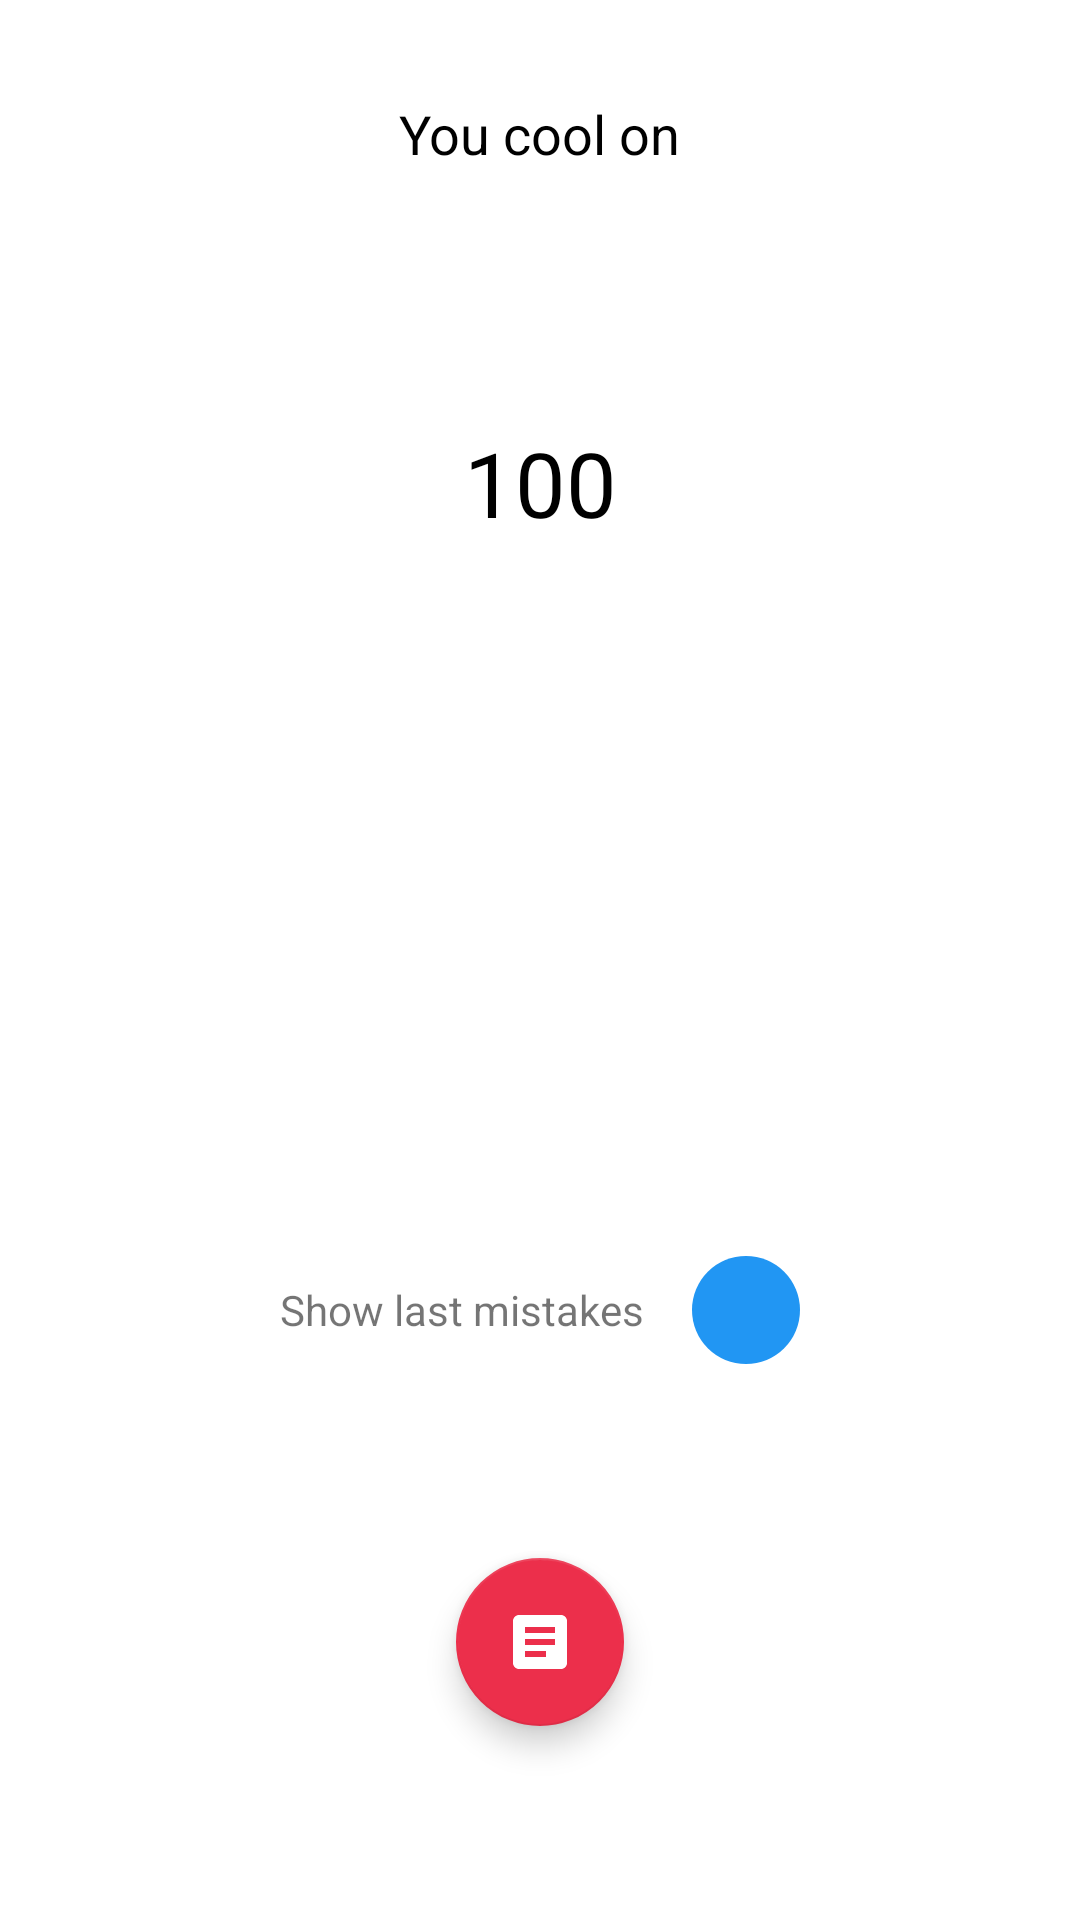

Icon bounding boxes for this 1080 x 1920 phone screenshot, format (x1, y1, x2, y2):
article: (456, 1558, 624, 1726)
